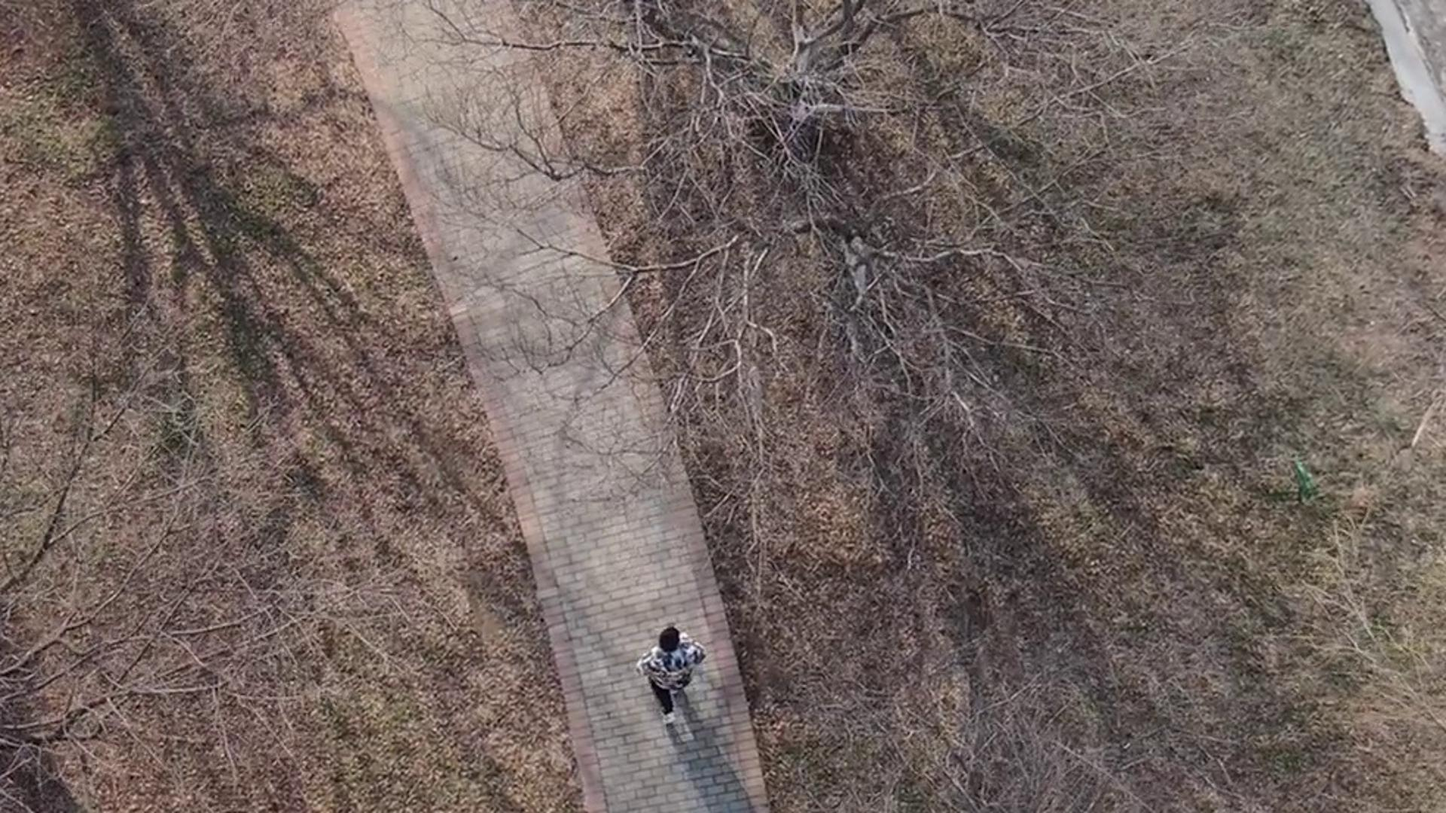human: (598, 625, 661, 729)
